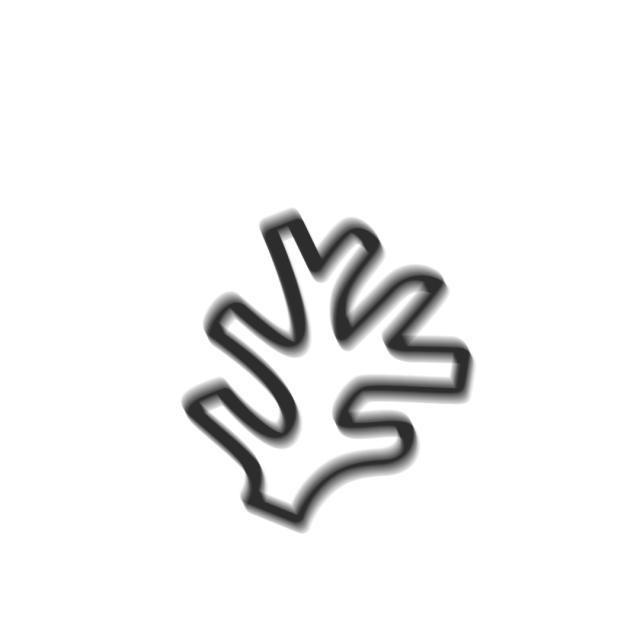coral: (172, 196, 483, 541)
